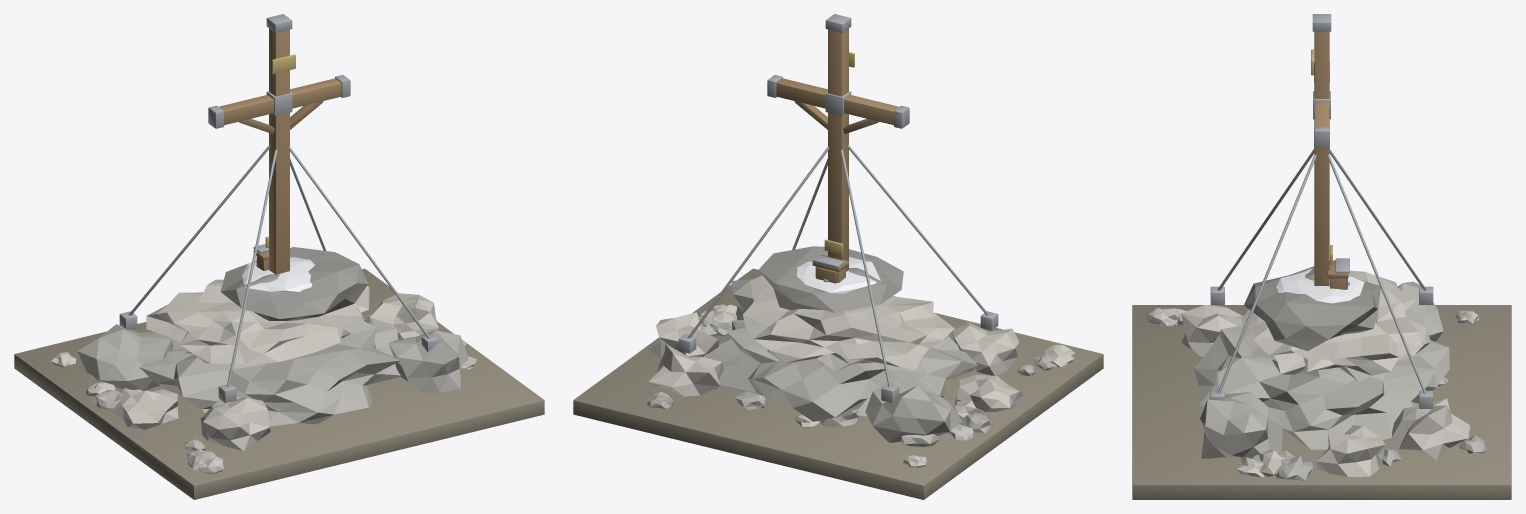
File: th26_gipfelkreuz.glb
3 views of the same model, side by side, from view 1: azimuth 30°, elevation 25°; view 2: azimuth 150°, elevation 25°; view 3: azimuth 270°, elevation 25° (orthographic). The views are drawn at different scales.
Visible parts, largest first — view 1: Cube, Felskoerper, Felskoerper.001, Felskoerper.002, Cube.001, Brocken, Brocken.001, Brocken.002, Brocken.005, Brocken.004, Cube.003, Firn (+3 smaller); view 2: Cube, Felskoerper.001, Felskoerper, Felskoerper.002, Cube.001, Brocken, Brocken.003, Brocken.002, Cube.003, Brocken.004, Brocken.005, Firn (+4 smaller); view 3: Cube, Felskoerper, Felskoerper.001, Felskoerper.002, Brocken.001, Cube.001, Brocken.003, Brocken.005, Brocken.002, Firn, Brocken, Cylinder.001 (+5 smaller).
Part boxes in pixels (<box>): Cube: <box>14,268,544,499</box>; Felskoerper: <box>139,307,400,426</box>; Felskoerper.001: <box>146,279,362,363</box>; Felskoerper.002: <box>220,247,368,321</box>; Cube.001: <box>269,28,289,274</box>; Brocken: <box>77,324,172,390</box>; Brocken.001: <box>388,330,468,392</box>; Brocken.002: <box>201,397,270,450</box>; Brocken.005: <box>370,293,438,339</box>; Brocken.004: <box>112,388,178,429</box>; Cube.003: <box>218,78,341,125</box>; Firn: <box>242,257,314,291</box>; Cube: <box>573,268,1103,499</box>; Felskoerper.001: <box>735,285,954,370</box>; Felskoerper: <box>703,320,977,421</box>; Felskoerper.002: <box>758,246,903,312</box>; Cube.001: <box>828,28,848,271</box>; Brocken: <box>865,379,961,442</box>; Brocken.003: <box>649,344,723,396</box>; Brocken.002: <box>952,322,1019,375</box>; Cube.003: <box>776,78,899,125</box>; Brocken.004: <box>954,374,1023,412</box>; Brocken.005: <box>648,312,718,357</box>; Firn: <box>797,257,880,293</box>; Cube: <box>1132,305,1511,499</box>; Felskoerper: <box>1194,325,1449,449</box>; Felskoerper.001: <box>1241,270,1430,381</box>; Felskoerper.002: <box>1244,266,1380,350</box>; Brocken.001: <box>1200,392,1282,458</box>; Cube.001: <box>1314,31,1329,286</box>; Brocken.003: <box>1391,398,1469,460</box>; Brocken.005: <box>1315,425,1384,476</box>; Brocken.002: <box>1180,305,1243,356</box>; Firn: <box>1276,268,1364,303</box>; Brocken: <box>1397,281,1443,341</box>; Cylinder.001: <box>1327,154,1426,393</box>.
Bounding box in the file's own units: 9 × 9.13 × 8.
